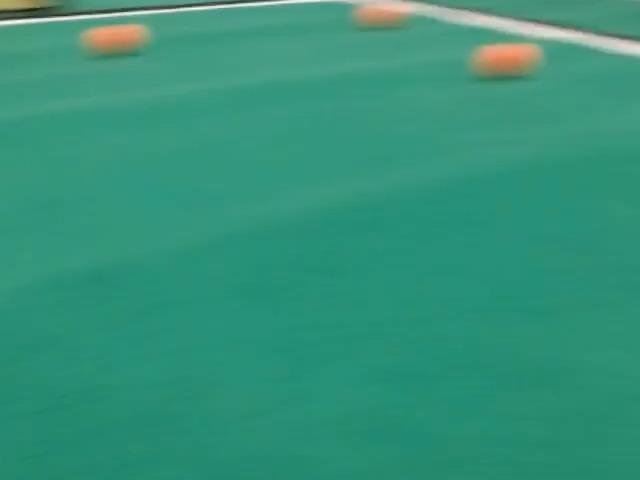Ball: (470, 43, 543, 77), (81, 24, 150, 54), (353, 3, 410, 28)
